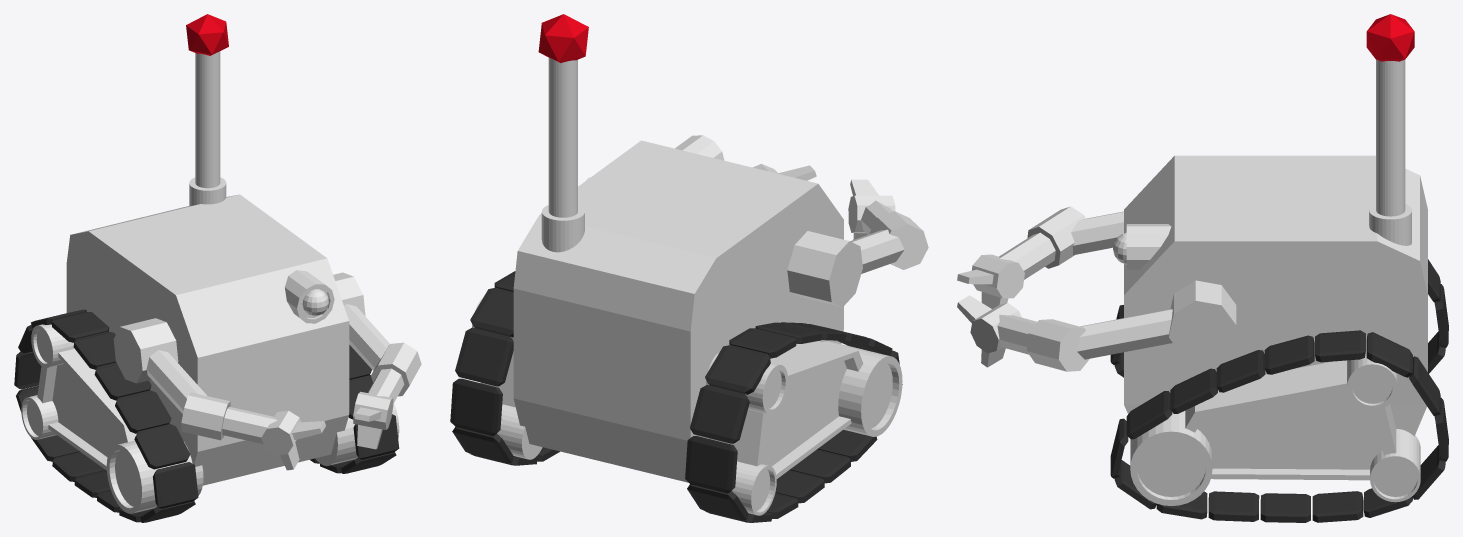
Rendered from robot.fbx.
3 views of the same model, side by side, from view 1: azimuth 30°, elevation 25°; view 2: azimuth 150°, elevation 25°; view 3: azimuth 270°, elevation 25° (orthographic). The views are drawn at different scales.
Parts seen in each view (by area): view 1: RobotBody, RobotArms, TrackRight, TrackLeft, Lens, Lamp; view 2: RobotBody, TrackRight, RobotArms, TrackLeft, Lamp, Lens; view 3: RobotBody, RobotArms, TrackLeft, Lens, Lamp, TrackRight.
Part boxes in pixels (<box>): RobotBody: <box>21,51,399,513</box>; RobotArms: <box>113,272,421,470</box>; TrackRight: <box>14,309,198,522</box>; TrackLeft: <box>310,345,399,473</box>; Lens: <box>284,270,334,323</box>; Lamp: <box>186,14,228,55</box>; RobotBody: <box>472,57,902,515</box>; TrackRight: <box>685,322,902,522</box>; RobotArms: <box>585,164,928,307</box>; TrackLeft: <box>450,271,559,465</box>; Lamp: <box>538,14,588,62</box>; Lens: <box>675,135,724,160</box>; RobotBody: <box>1124,59,1427,505</box>; RobotArms: <box>957,206,1236,371</box>; TrackLeft: <box>1110,330,1448,522</box>; Lens: <box>1113,224,1171,274</box>; Lamp: <box>1366,14,1414,61</box>; TrackRight: <box>1110,259,1448,377</box>.
Bounding box in the file's own units: 5.13 × 7.69 × 7.31.
